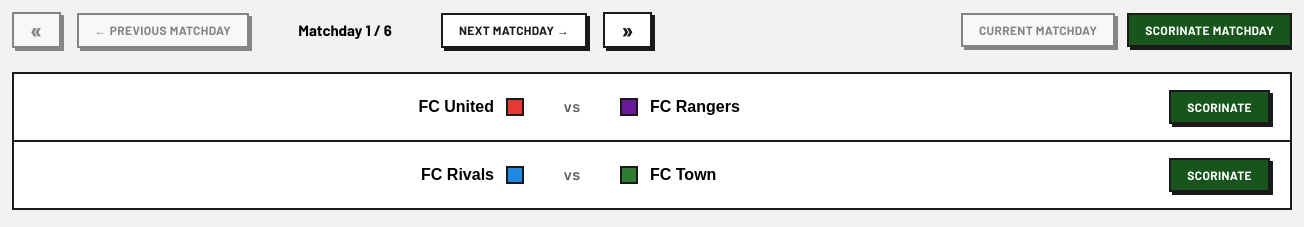
FixturesView › disables Previous on matchday 1, and advances the header and matches on Next
Expected: the button "← Previous matchday" is disabled, top-left (77, 12), bottom-right (249, 48)
What coordinates should you click on to do the following:
click the button "Next matchday →"
I would click on:
 (514, 30)
Its box is top-left (441, 12), bottom-right (587, 48).
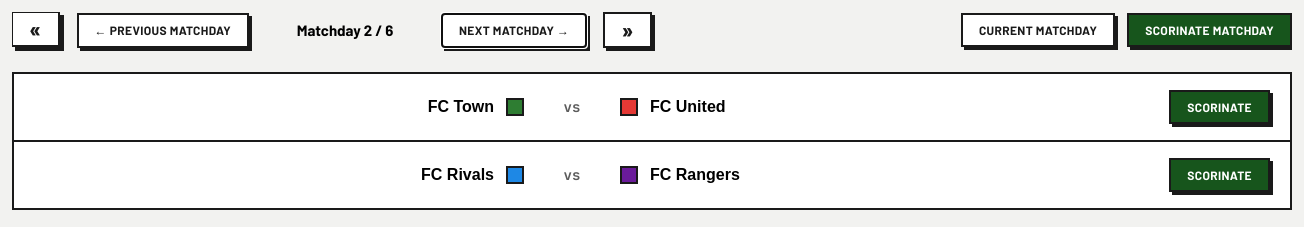
Result: the button "← Previous matchday" is enabled at top-left (77, 12), bottom-right (249, 48)
